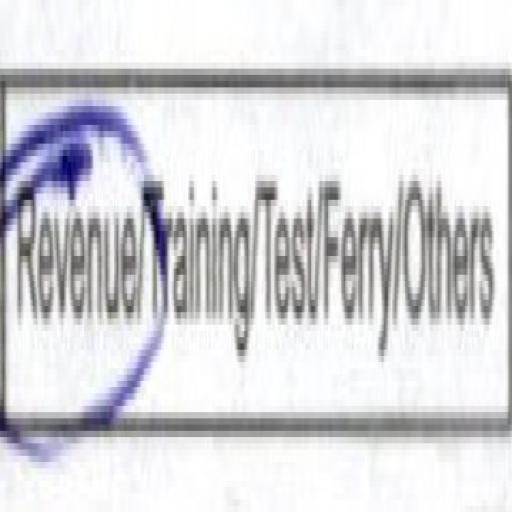check: (0, 33, 142, 462)
